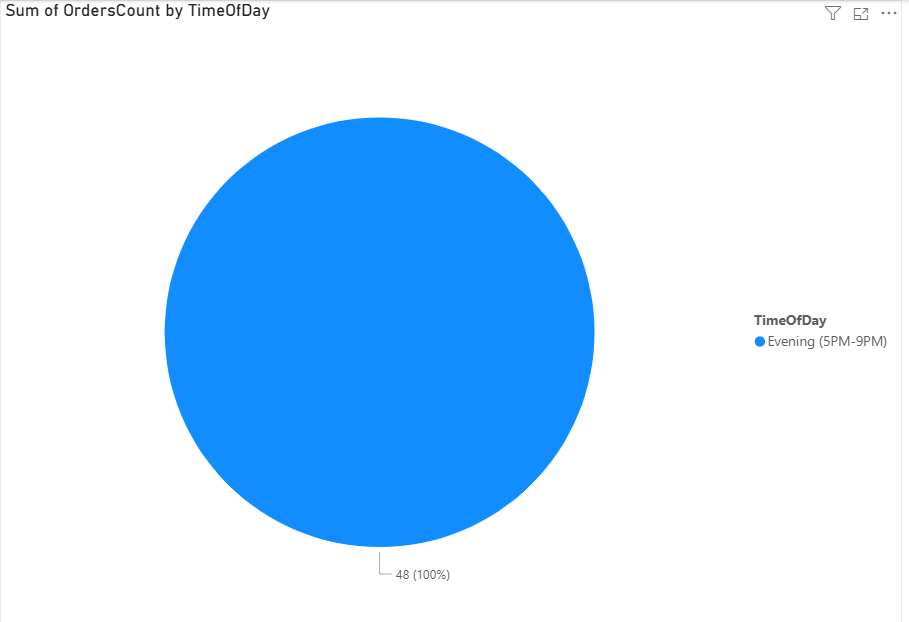

What the dashboard file says about the page in this screenshot:
{"tool":"powerbi","page":{"name":"Page 2","canvas":[1280,720],"ordinal":1},"visuals":[{"type":"pieChart","fields":{"Y":["Sum(Times Of Orders.OrdersCount)"],"Category":["Times Of Orders.TimeOfDay"]},"box":[9.7,0,877.3,627.4],"z":0}]}

Visuals, with their boxes on the page's 1280x720 design canvas (x1, y1, x2, y2). These are canvas units, not pixel positions in the 909x622 screenshot, which may show the page scaled, cropped or inside an application window:
pieChart - Sum(Times Of Orders.OrdersCount) x Times Of Orders.TimeOfDay: <box>10,0,887,627</box>
